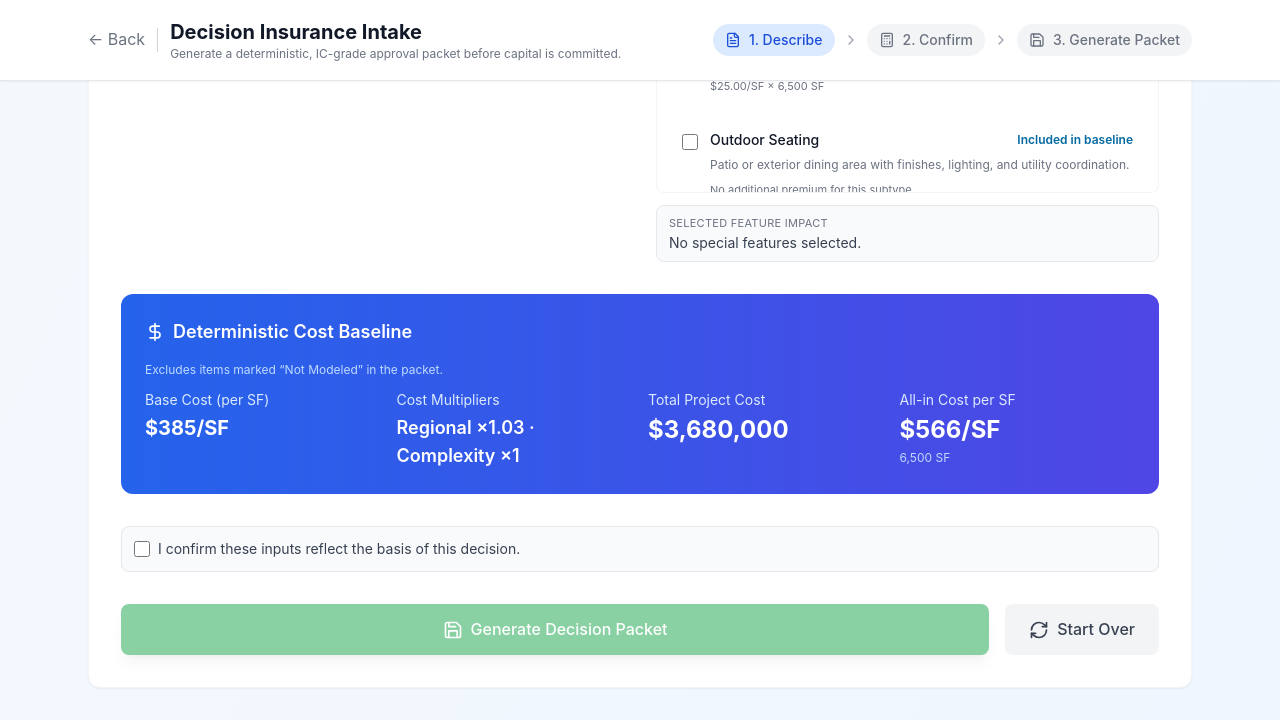
Test case: NewProject special feature pricing parity › bounds unrelated internal save failures and does not show the exhaustion blocker
This screenshot has width=1280, height=720.
(page scrolled)
Click the checkbox labelled "I confirm these inputs reflect the basis of this decision." at [142, 549], box [134, 541, 150, 557]
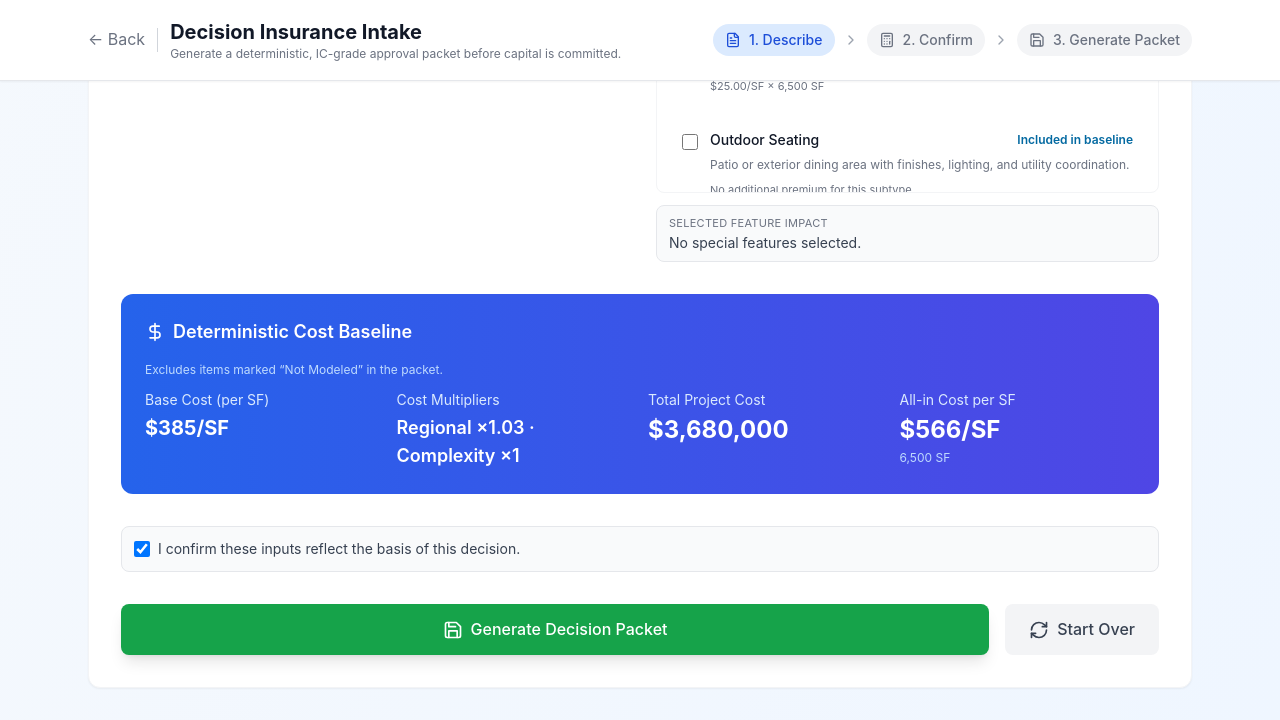
Click the button "Generate Decision Packet" at [555, 630], box [121, 604, 989, 655]
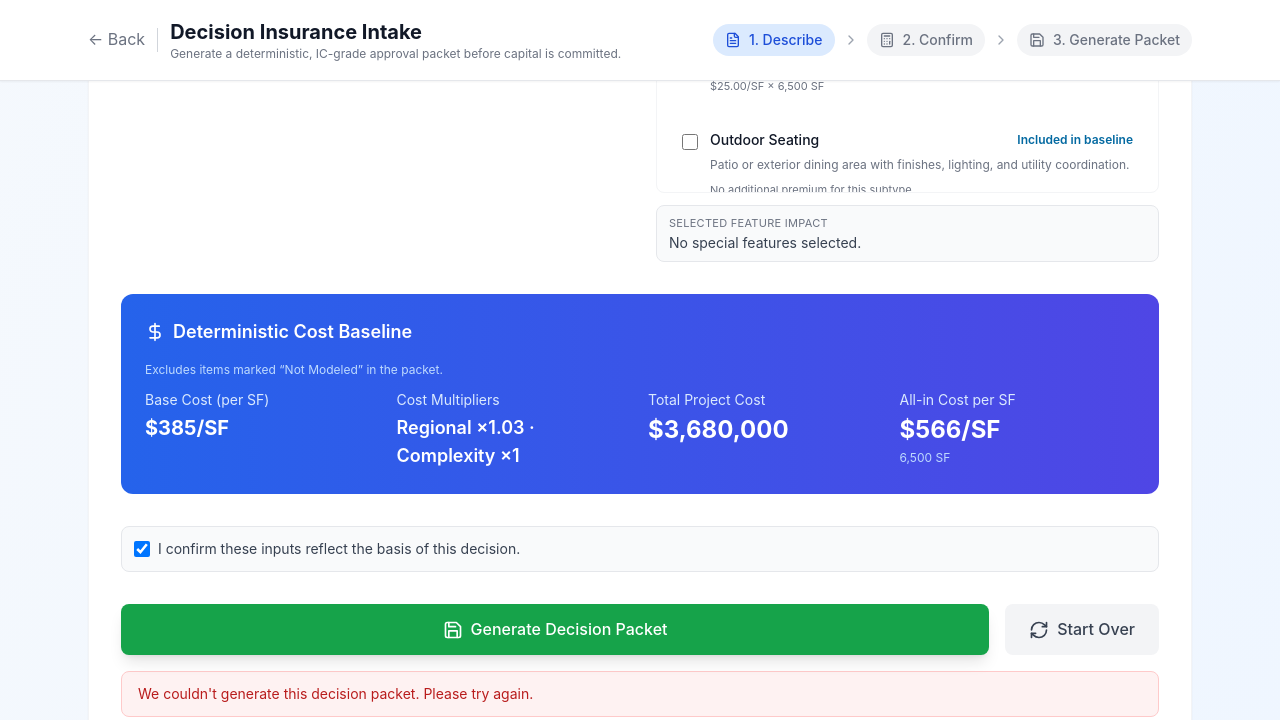
Now the text "We couldn't generate this decision packet. Please try again." is shown, box [121, 671, 1159, 717]
